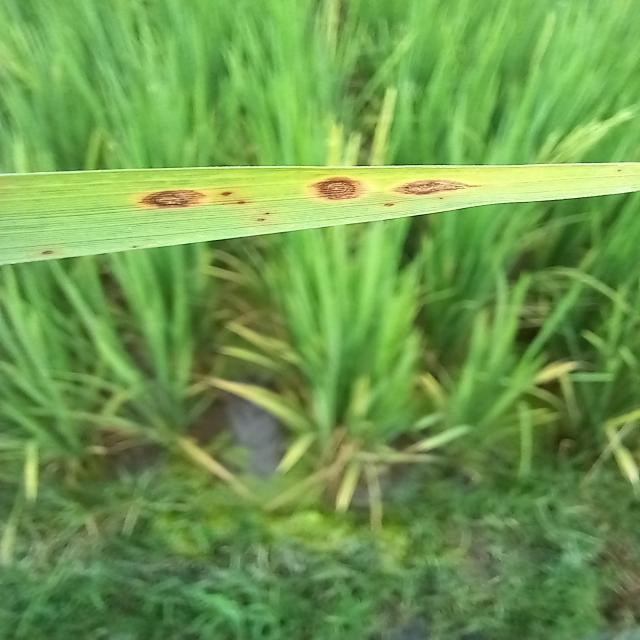Brown_Spot: (390, 179, 483, 197), (310, 176, 365, 201), (139, 190, 206, 209), (220, 190, 233, 197), (236, 201, 246, 205)
